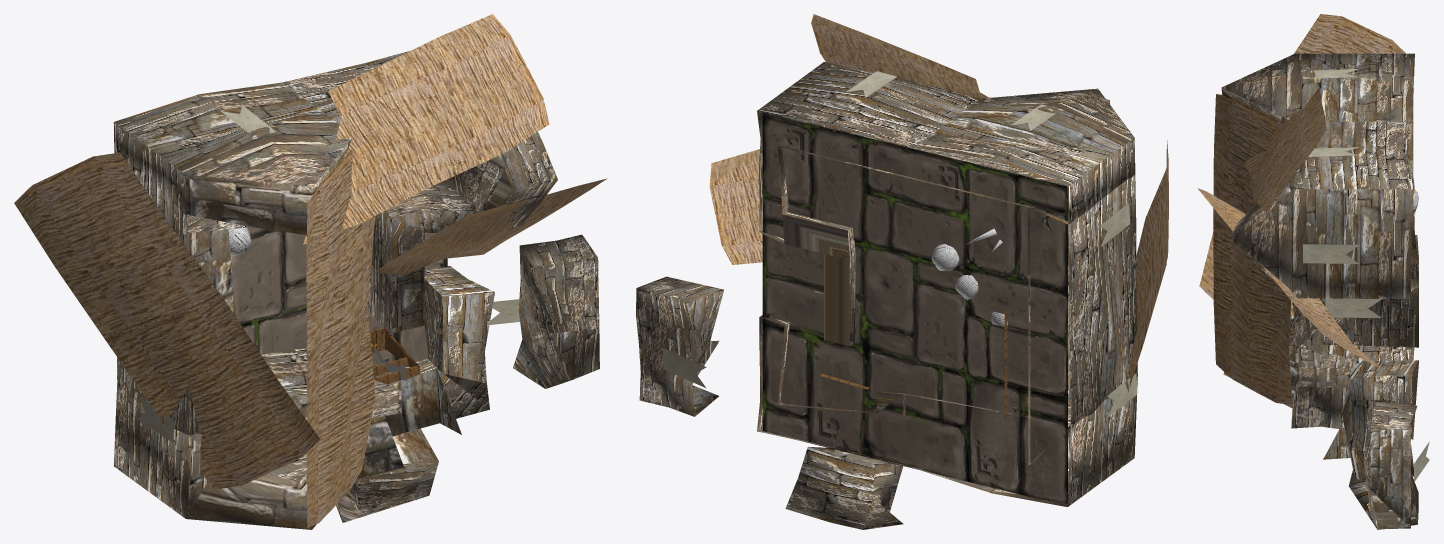
The model's file is barracks_000059.obj.
3 views of the same model, side by side, from view 1: azimuth 30°, elevation 25°; view 2: azimuth 150°, elevation 25°; view 3: azimuth 270°, elevation 25° (orthographic). The views are drawn at different scales.
Parts seen in each view (by area): view 1: Plane.001, Plane.018, Cube.006_Cube.001, Cube.008_Cube.006, Cube.005_Cube.009, Plane.016, Cube.000_Cube.007, Plane, Plane.017, Cube.007_Cube.003, Cube.004_Cube.002, Cube.003_Cube.005 (+1 smaller); view 2: Plane, Cube.008_Cube.006, Cube.006_Cube.001, Cube.007_Cube.003, Cube.000_Cube.007, Cube.004_Cube.002, Cube.005_Cube.009, Plane.018, Plane.017, Plane.001, Plane.026, Sphere.002; view 3: Cube.008_Cube.006, Plane.016, Cube.006_Cube.001, Cube.005_Cube.009, Cube.000_Cube.007, Plane.018, Plane.001, Plane.017, Plane.027, Plane.019_Plane.028, Cube.004_Cube.002, Plane.024_Plane.035 (+2 smaller).
Part boxes in pixels (x1,y1,x2,y2): Plane.001: (14,152,320,489); Plane.018: (303,14,549,244); Cube.006_Cube.001: (113,82,352,234); Cube.008_Cube.006: (282,50,557,434); Cube.005_Cube.009: (114,348,489,529); Plane.016: (306,149,375,527); Cube.000_Cube.007: (513,234,599,388); Plane: (231,227,447,364); Plane.017: (374,178,607,275); Cube.007_Cube.003: (117,184,250,435); Cube.004_Cube.002: (336,428,438,522); Cube.003_Cube.005: (370,327,420,384); Plane: (762,112,1067,504); Cube.008_Cube.006: (757,62,980,404); Cube.006_Cube.001: (904,88,1135,224); Cube.007_Cube.003: (1028,174,1137,465); Cube.000_Cube.007: (636,276,723,416); Cube.004_Cube.002: (785,447,903,529); Cube.005_Cube.009: (757,376,1137,506); Plane.018: (811,14,998,102); Plane.017: (709,149,762,264); Plane.001: (1129,140,1168,386); Plane.026: (663,348,706,387); Sphere.002: (931,228,996,270); Cube.008_Cube.006: (1231,121,1418,459); Plane.016: (1213,94,1292,405); Cube.006_Cube.001: (1221,53,1414,153); Cube.005_Cube.009: (1223,298,1414,479); Cube.000_Cube.007: (1363,400,1417,529); Plane.018: (1245,88,1326,211); Plane.001: (1199,14,1405,318); Plane.017: (1197,188,1381,367); Plane.027: (1303,244,1358,263); Plane.019_Plane.028: (1325,298,1381,317); Cube.004_Cube.002: (1349,470,1418,529); Plane.024_Plane.035: (1308,147,1358,156).
Bounding box in the file's own units: 11.42 × 9.54 × 4.85.
